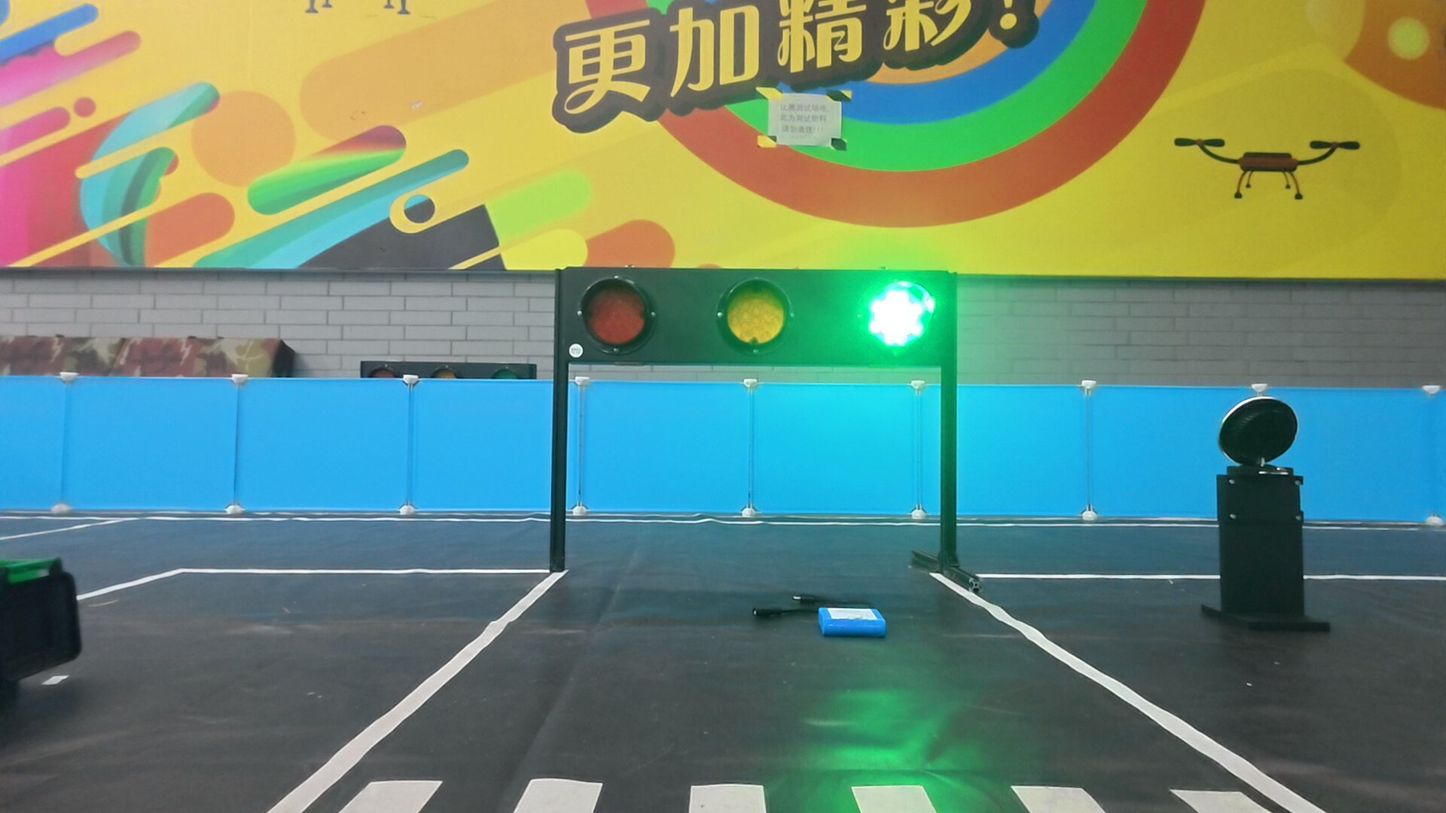go: (861, 277, 939, 356)
